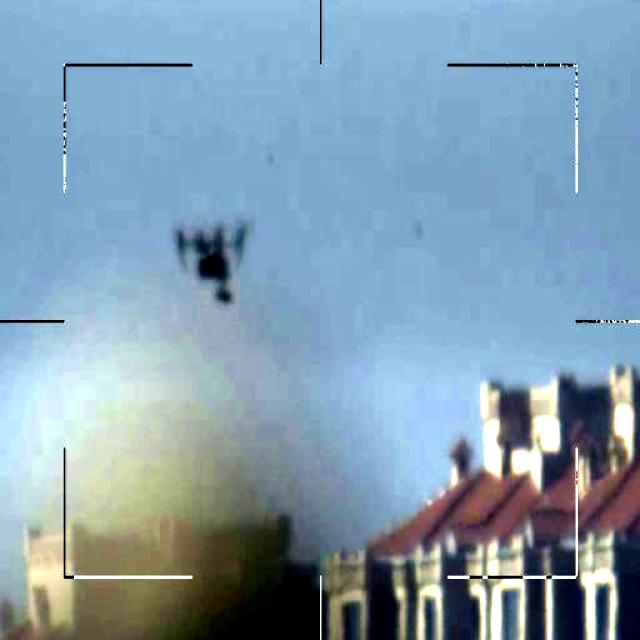bird: (170, 215, 254, 309)
